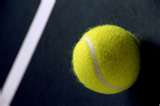tennis ball: (71, 23, 142, 96)
